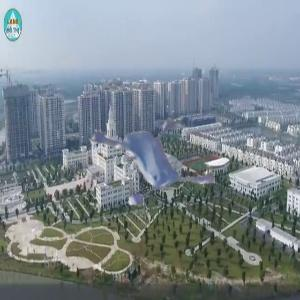drone: (62, 90, 205, 233)
